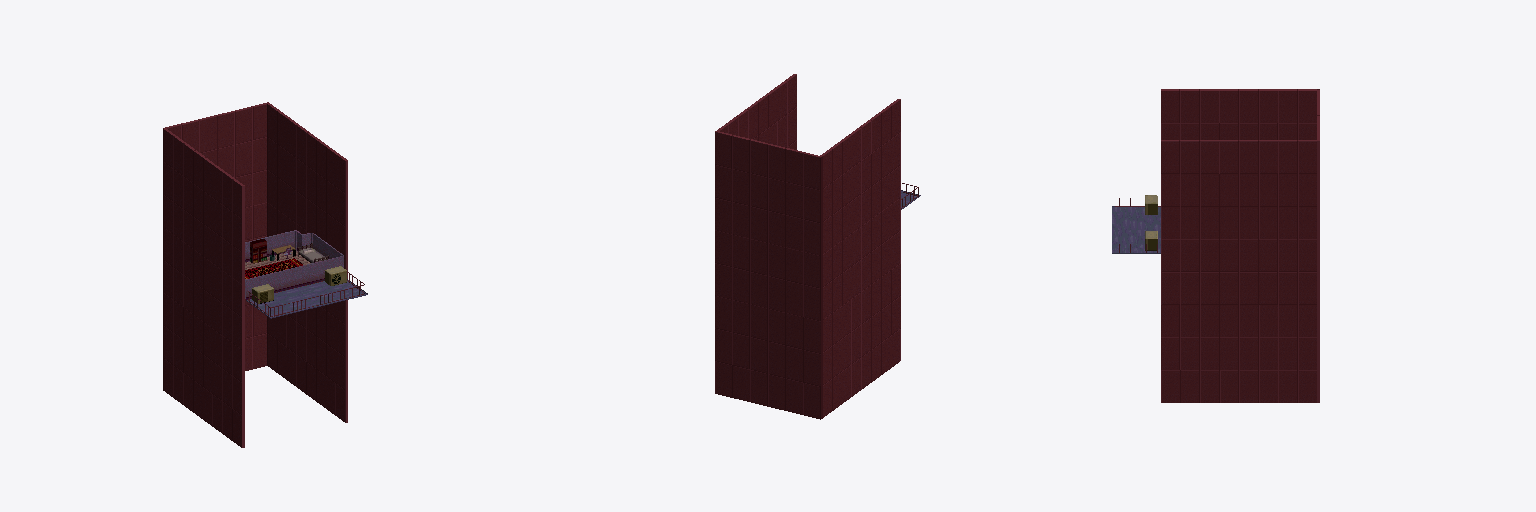
The picture shows the model from 3 angles: view 1: azimuth 30°, elevation 25°; view 2: azimuth 150°, elevation 25°; view 3: azimuth 270°, elevation 25°; orthographic projection.
Visible parts, largest first — view 1: Wall.001_Plane.005, Wall_Plane.004, Wall.002_Plane.006, Plane.001_Plane.003; view 2: Wall.002_Plane.006, Wall.001_Plane.005, Wall_Plane.004; view 3: Wall_Plane.004, Wall.001_Plane.005, Plane.001_Plane.003, Wall.002_Plane.006.
Part boxes in pixels (x1,y1,x2,y2): Wall.001_Plane.005: (164, 129, 244, 447); Wall_Plane.004: (267, 104, 347, 422); Wall.002_Plane.006: (163, 102, 269, 390); Plane.001_Plane.003: (245, 230, 367, 318); Wall.002_Plane.006: (715, 131, 822, 419); Wall.001_Plane.005: (820, 99, 900, 417); Wall_Plane.004: (717, 74, 796, 149); Wall_Plane.004: (1161, 140, 1316, 402); Wall.001_Plane.005: (1161, 89, 1316, 139); Plane.001_Plane.003: (1112, 206, 1160, 253); Wall.002_Plane.006: (1317, 89, 1319, 402).
Size of the model in its own units: 27.01 by 46.14 by 53.63.
24 materials, 15 textured.